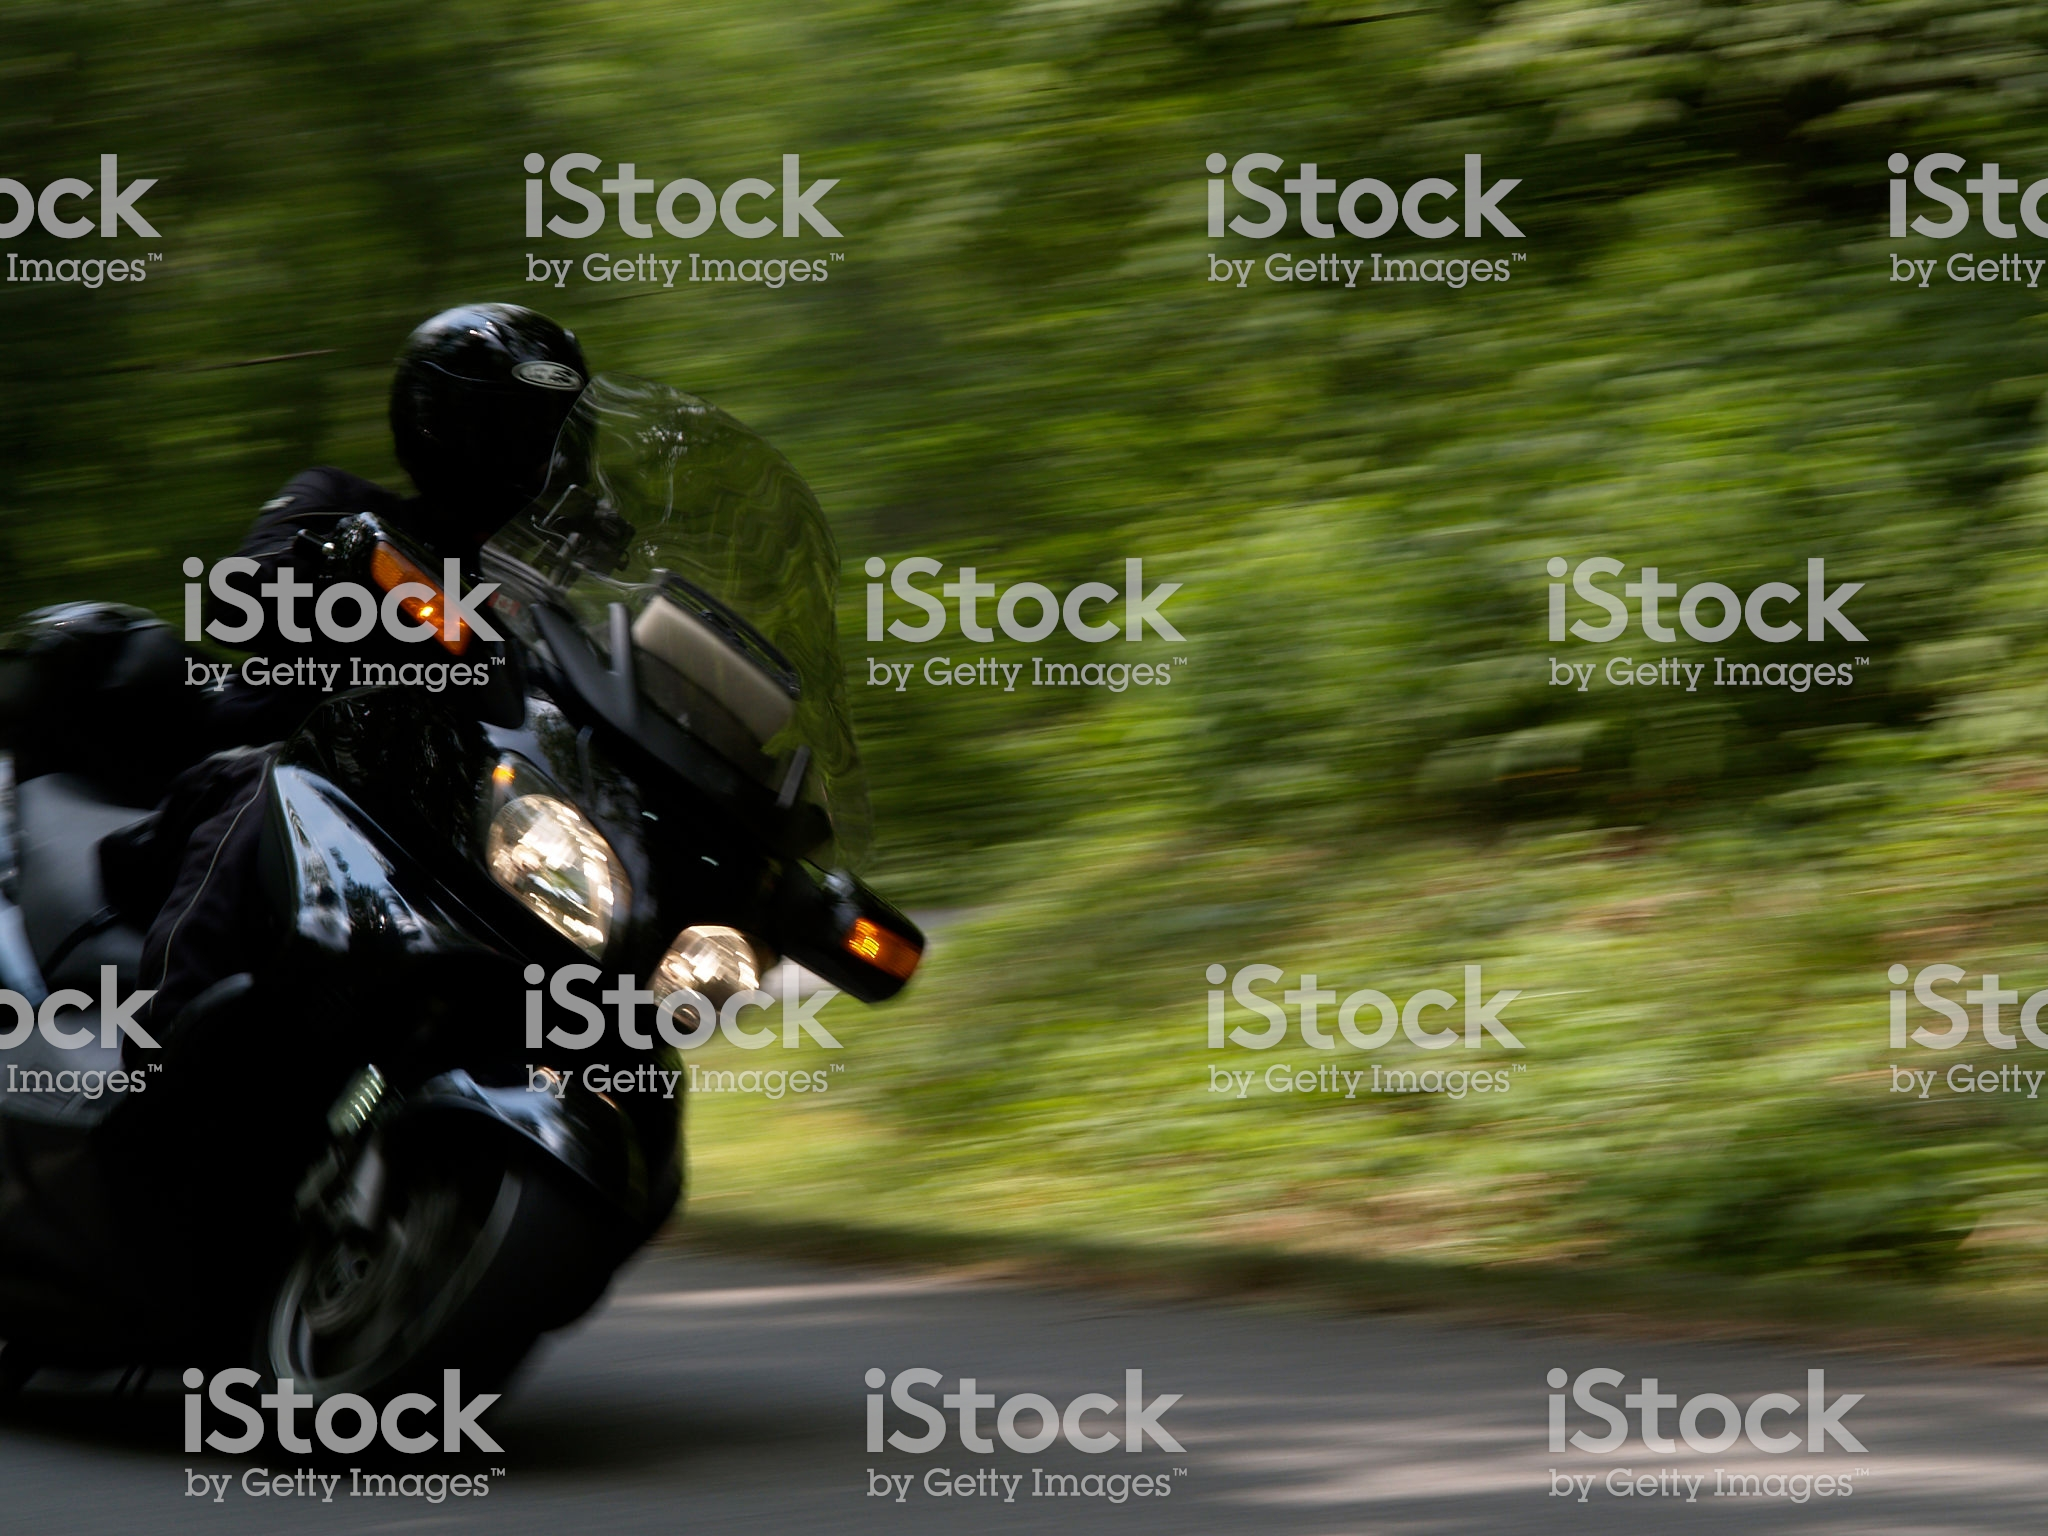helmet: (373, 297, 610, 523)
